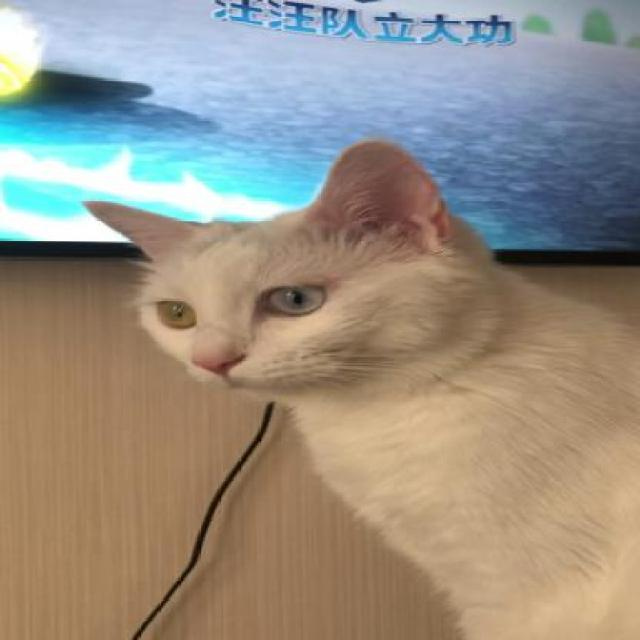cat-face: (87, 200, 490, 400)
